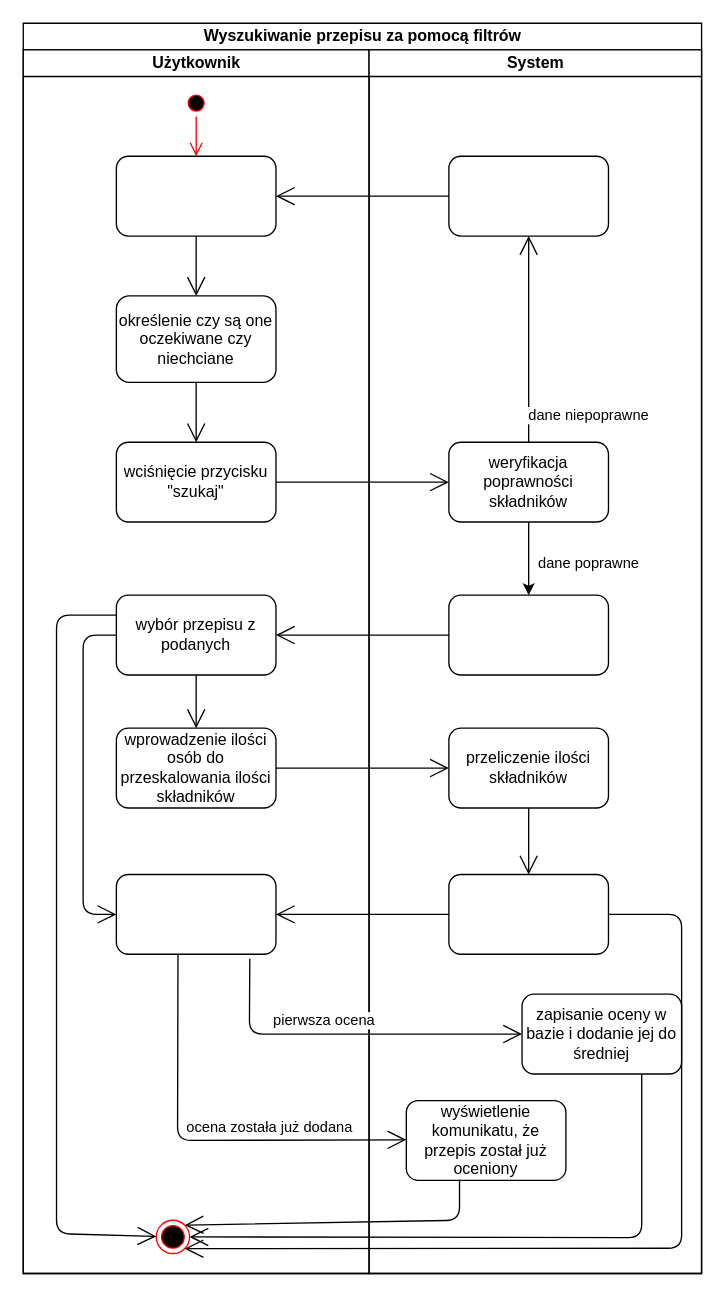
This 725x1297 diagram has some shape labels left out. The centre of each missing label's shape, as x and y in pixels:
ocena przepisu (1-5): the point at 195,913
wprowadzenie składników: the point at 195,195
wyświetlenie komunikatu, że podane składniki nie znajdują się w bazie: the point at 528,195
wyświetlenie poprawionych danych: the point at 528,913
wyświetlenie przepisów zgodnych z kryteriami wyszukiwania: the point at 528,634
